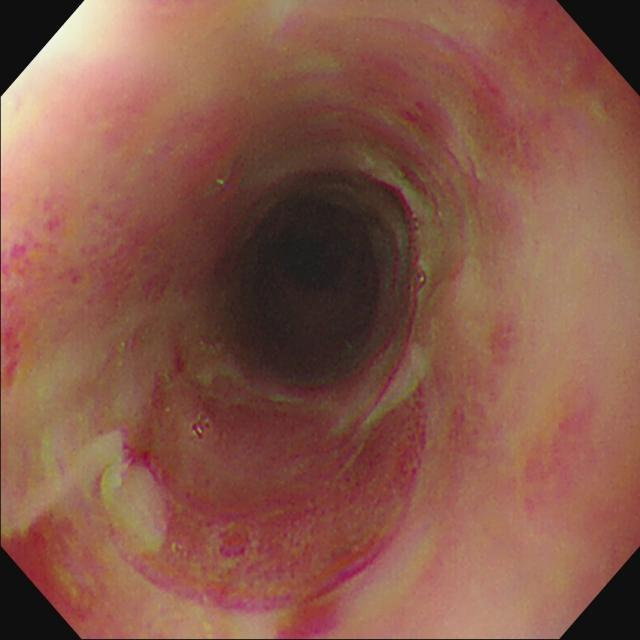A: (117, 384, 443, 609), (76, 186, 182, 319), (464, 72, 561, 194), (2, 208, 64, 394), (520, 395, 600, 539)
C: (5, 515, 95, 616), (280, 599, 346, 640)
E: (233, 203, 380, 377)
J: (98, 460, 176, 560), (360, 340, 430, 428)
